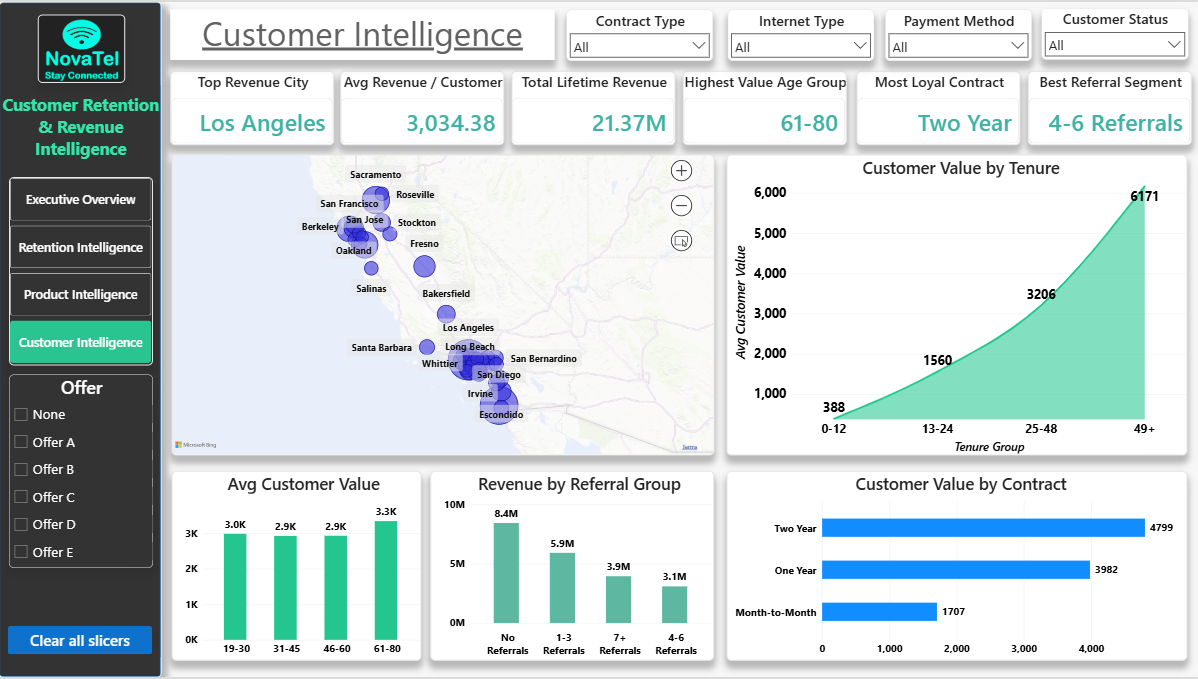

The page's visual inventory and layout, read from the dashboard file:
{"tool":"powerbi","page":{"name":"Customer Intelligence","canvas":[1920,1080],"ordinal":3},"visuals":[{"type":"shape","box":[0,0,259.6,1080.8],"z":0},{"type":"image","box":[61.5,19.2,140.4,109.6],"z":1000},{"type":"textbox","box":[1.9,146.2,257.7,107.7],"z":2000},{"type":"pageNavigator","box":[15.4,280.8,230.8,301.9],"z":3000},{"type":"cardVisual","title":"Top Revenue City","fields":{"Data":["Customer Churn.Top Revenue City"]},"box":[273,109,262,119],"z":4000},{"type":"cardVisual","title":"Avg Revenue / Customer","fields":{"Data":["Customer Churn.Avg Revenue Per Customer"]},"box":[545,109,262,119],"z":5000},{"type":"cardVisual","title":"Total Lifetime Revenue","fields":{"Data":["Customer Churn.Total Lifetime Revenue"]},"box":[819,109,262,119],"z":6000},{"type":"cardVisual","title":"Highest Value Age Group","fields":{"Data":["Customer Churn.Highest Value Age Group"]},"box":[1093,109,262,119],"z":7000},{"type":"cardVisual","title":"Most Loyal Contract","fields":{"Data":["Customer Churn.Most Loyal Contract"]},"box":[1372,109,262,119],"z":8000},{"type":"cardVisual","title":"Best Referral Segment","fields":{"Data":["Customer Churn.Best Referral Segment"]},"box":[1646,109,262,119],"z":9000},{"type":"slicer","title":"Contract Type","fields":{"Values":["Customer Churn.Contract"]},"box":[907.7,11.5,234.6,82.7],"z":10000},{"type":"slicer","title":"Internet Type","fields":{"Values":["Customer Churn.Internet Type"]},"box":[1165.4,11.5,234.6,82.7],"z":11000},{"type":"slicer","title":"Payment Method","fields":{"Values":["Customer Churn.Payment Method"]},"box":[1417.3,11.5,234.6,82.7],"z":12000},{"type":"slicer","title":"Customer Status","fields":{"Values":["Customer Churn.Customer Status"]},"box":[1667.3,9.6,235,82],"z":13000},{"type":"slicer","title":"Offer","fields":{"Values":["Customer Churn.Offer"]},"box":[15.4,596.2,230.8,309.6],"z":14000},{"type":"textbox","box":[273.1,11.5,615.4,80.8],"z":15000},{"type":"map","fields":{"Category":["Customer Churn.City"],"Size":["Sum(Customer Churn.Total Revenue)"]},"box":[275,243.8,868.8,481.2],"z":16000},{"type":"clusteredColumnChart","title":"Avg Customer Value","fields":{"Category":["Customer Churn.Age Group"],"Y":["Customer Churn.Avg Customer Value"]},"box":[275,750,400,304.2],"z":17000},{"type":"clusteredColumnChart","title":"Revenue by Referral Group","fields":{"Category":["Customer Churn.Referral Group"],"Y":["Sum(Customer Churn.Total Revenue)"]},"box":[689.6,750,454.2,304.2],"z":18000},{"type":"clusteredBarChart","title":"Customer Value by Contract","fields":{"Category":["Customer Churn.Contract"],"Y":["Customer Churn.Avg Customer Value"]},"box":[1164.6,750,737.5,304.2],"z":19000},{"type":"areaChart","title":"Customer Value by Tenure","fields":{"Category":["Customer Churn.Tenure Group"],"Y":["Customer Churn.Avg Customer Value"]},"box":[1164.6,243.8,737.5,481.2],"z":20000},{"type":"actionButton","title":"Reset","box":[14.6,997.9,231.2,45.8],"z":21000}]}

Visuals, with their boxes in screenshot pixels (x1, y1, x2, y2), scaled from the page's 1920x1080 canvas onto the 1198x679 screenshot:
shape: left=0, top=0, right=162, bottom=678
image: left=38, top=12, right=126, bottom=81
textbox: left=1, top=92, right=162, bottom=160
pageNavigator: left=10, top=177, right=154, bottom=366
"Top Revenue City" cardVisual: left=170, top=69, right=334, bottom=143
"Avg Revenue / Customer" cardVisual: left=340, top=69, right=504, bottom=143
"Total Lifetime Revenue" cardVisual: left=511, top=69, right=674, bottom=143
"Highest Value Age Group" cardVisual: left=682, top=69, right=845, bottom=143
"Most Loyal Contract" cardVisual: left=856, top=69, right=1020, bottom=143
"Best Referral Segment" cardVisual: left=1027, top=69, right=1191, bottom=143
"Contract Type" slicer: left=566, top=7, right=713, bottom=59
"Internet Type" slicer: left=727, top=7, right=874, bottom=59
"Payment Method" slicer: left=884, top=7, right=1031, bottom=59
"Customer Status" slicer: left=1040, top=6, right=1187, bottom=58
"Offer" slicer: left=10, top=375, right=154, bottom=569
textbox: left=170, top=7, right=554, bottom=58
map - Customer Churn.City x Sum(Customer Churn.Total Revenue): left=172, top=153, right=714, bottom=456
"Avg Customer Value" clusteredColumnChart: left=172, top=472, right=421, bottom=663
"Revenue by Referral Group" clusteredColumnChart: left=430, top=472, right=714, bottom=663
"Customer Value by Contract" clusteredBarChart: left=727, top=472, right=1187, bottom=663
"Customer Value by Tenure" areaChart: left=727, top=153, right=1187, bottom=456
"Reset" actionButton: left=9, top=627, right=153, bottom=656
